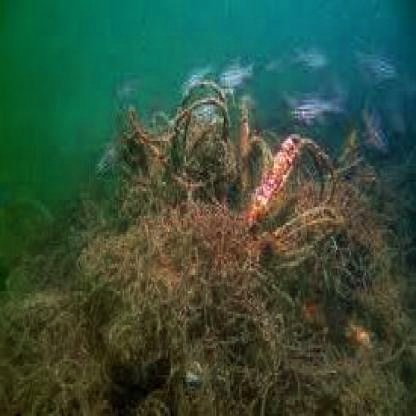net: (73, 95, 384, 398)
